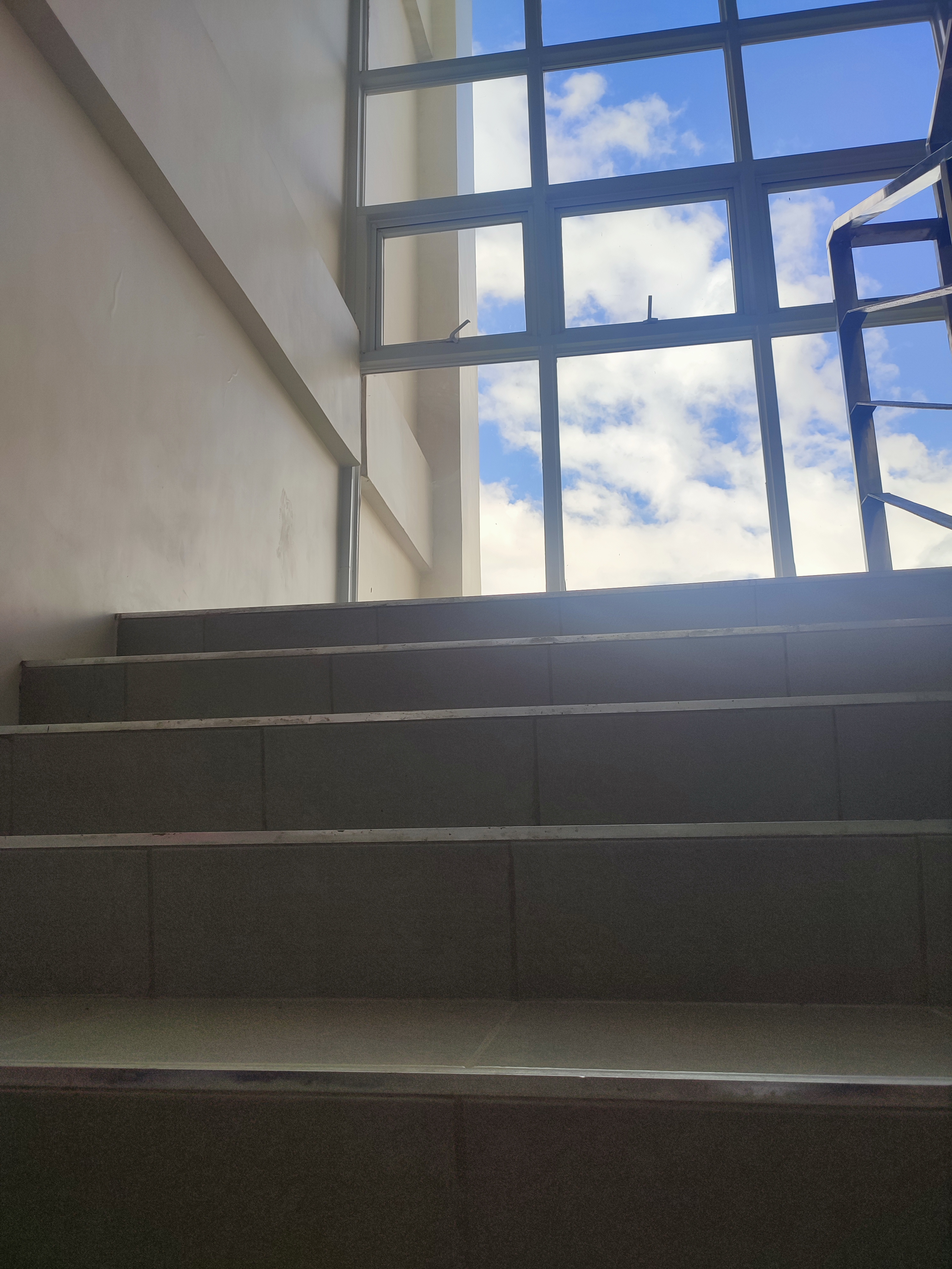Staircase: (0, 570, 952, 1269)
